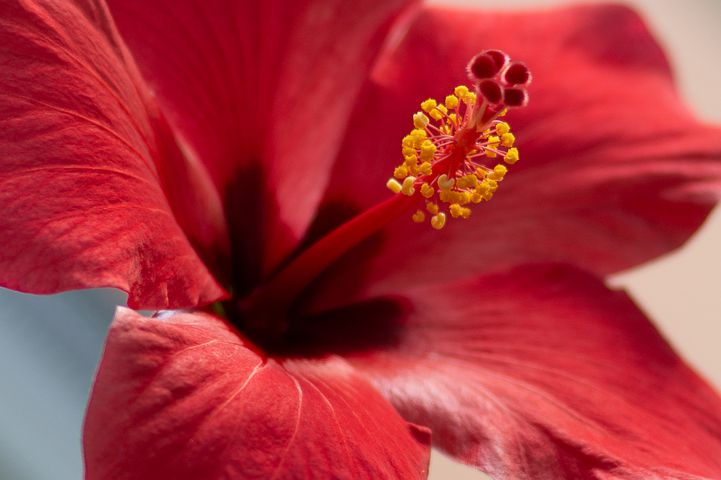Hibiscus: (7, 8, 710, 480)
